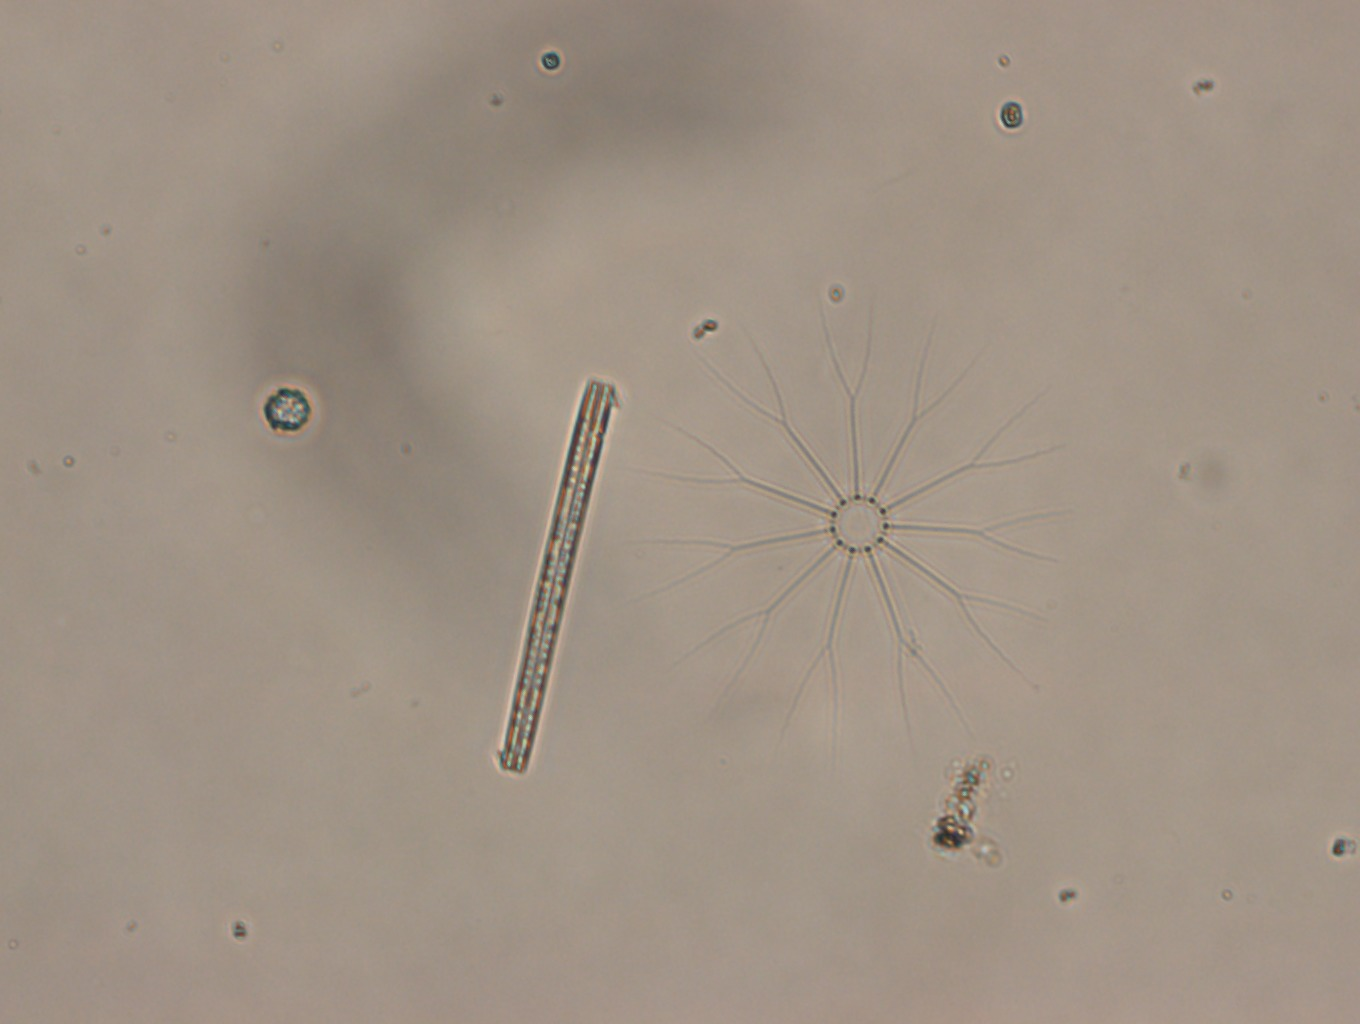bacteriastrum: (634, 291, 1090, 772)
thalassionema frauenfeldii: (495, 375, 620, 774)
